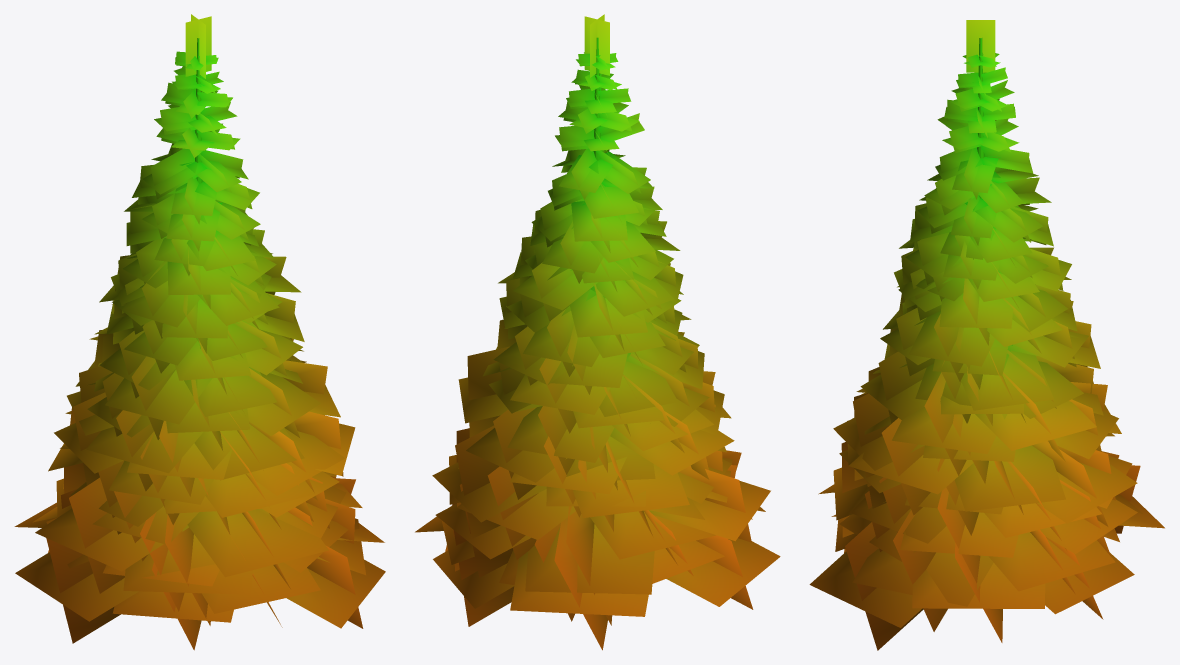
The model's file is SM_Spruce_B.fbx.
3 views of the same model, side by side, from view 1: azimuth 30°, elevation 25°; view 2: azimuth 150°, elevation 25°; view 3: azimuth 270°, elevation 25° (orthographic). The views are drawn at different scales.
Visible parts, largest first — view 1: SM_Spruce_B; view 2: SM_Spruce_B; view 3: SM_Spruce_B.
Boxes of the visible parts, x1,y1,x2,y2 form: SM_Spruce_B: (14,14,385,650); SM_Spruce_B: (415,14,780,650); SM_Spruce_B: (809,20,1164,650).
Size of the model in its own units: 709 by 738 by 1321.
